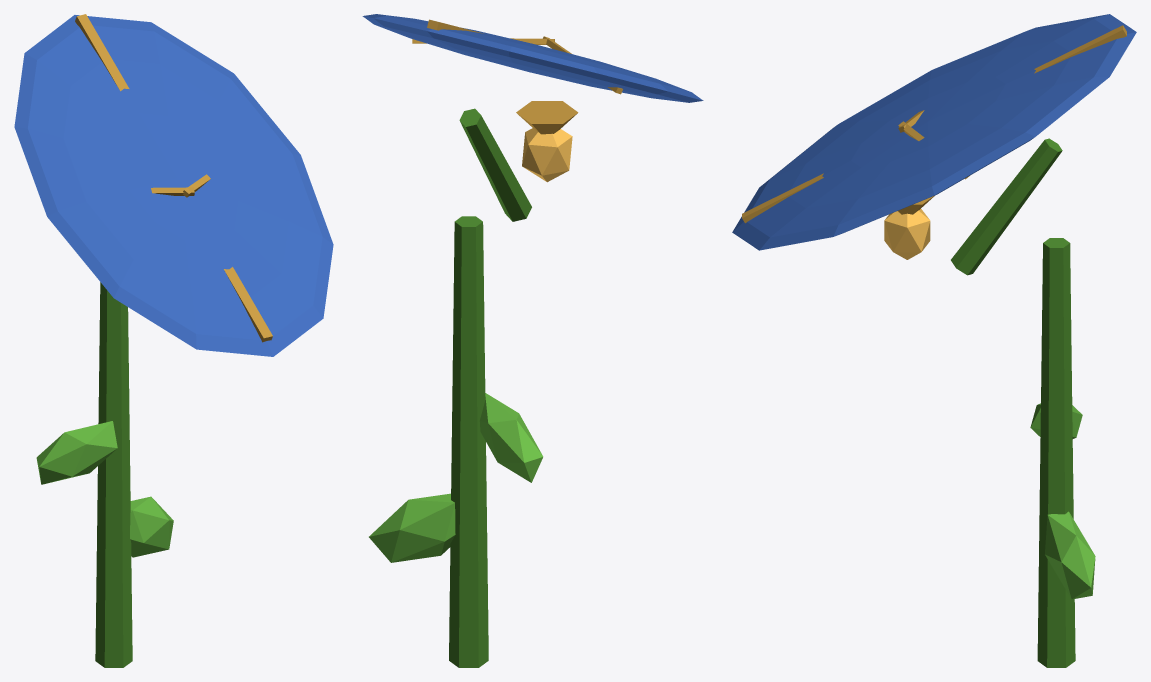
The model's file is solar_leaf.glb.
3 renders of one model, left to right at view 1: azimuth 30°, elevation 25°; view 2: azimuth 150°, elevation 25°; view 3: azimuth 270°, elevation 25°, orthographic. The views are drawn at different scales.
Visible parts, largest first — view 1: solar_leaf; view 2: solar_leaf; view 3: solar_leaf.
Boxes of the visible parts, box(x1,y1,x2,y2) form: solar_leaf: box(14, 14, 333, 667); solar_leaf: box(362, 14, 703, 667); solar_leaf: box(732, 14, 1136, 667).
Size of the model in its own units: 1.1 by 2.58 by 1.49.
